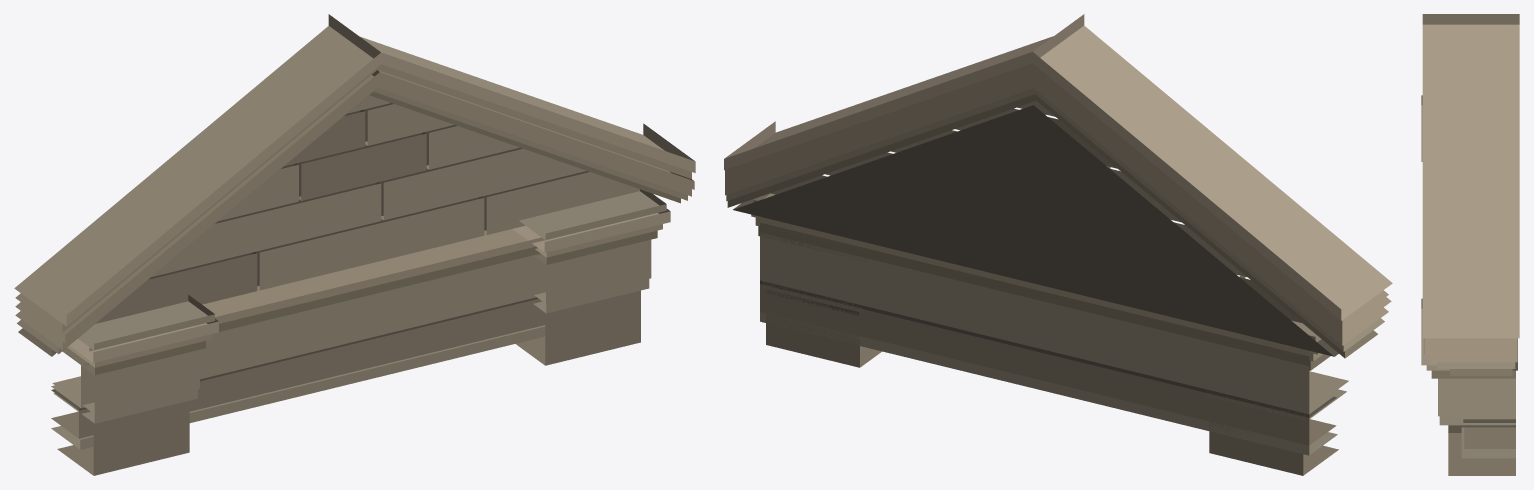
Rendered from huangpu-former-church-apartments-stone-pediment-lod.glb.
The picture shows the model from 3 angles, left to right: view 1: azimuth 30°, elevation 25°; view 2: azimuth 150°, elevation 25°; view 3: azimuth 270°, elevation 25°; orthographic projection. The views are drawn at different scales.
Visible parts, largest first — view 1: 原教会公寓南苏州路入口石三角山花; view 2: 原教会公寓南苏州路入口石三角山花; view 3: 原教会公寓南苏州路入口石三角山花.
Boxes of the visible parts, x1,y1,x2,y2 form: 原教会公寓南苏州路入口石三角山花: [14, 14, 695, 475]; 原教会公寓南苏州路入口石三角山花: [724, 14, 1392, 475]; 原教会公寓南苏州路入口石三角山花: [1421, 14, 1519, 475].
Size of the model in its own units: 3.26 by 1.82 by 0.477.
